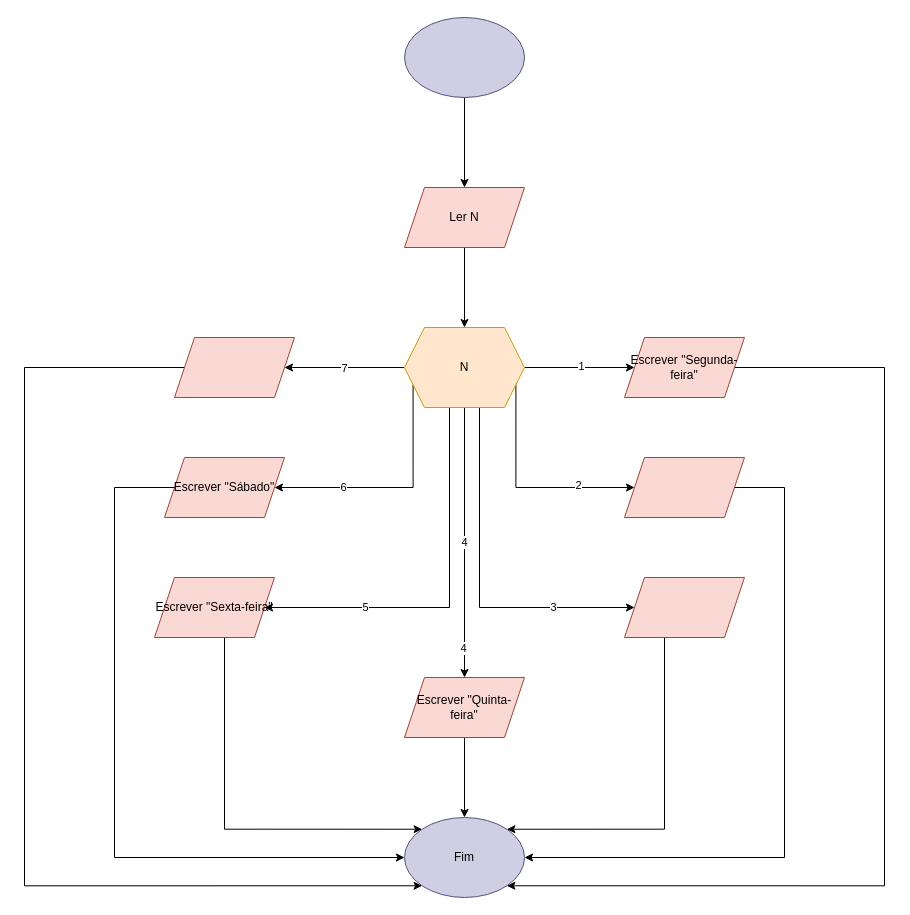
This 910x915 diagram has some shape labels left out. The shapes that lost their labels are listed below. From the top down, each one's centre as x and y in pixels, then its label:
[464,57]: Início
[234,367]: Escrever "Domingo"
[684,487]: Escrever "Terça-feira"
[684,607]: Escrever "Quarta-feira"
